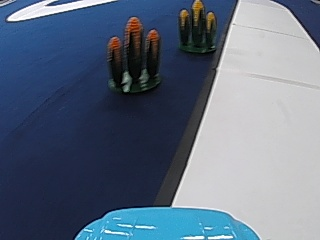corn: (106, 17, 164, 94), (175, 0, 219, 52)
